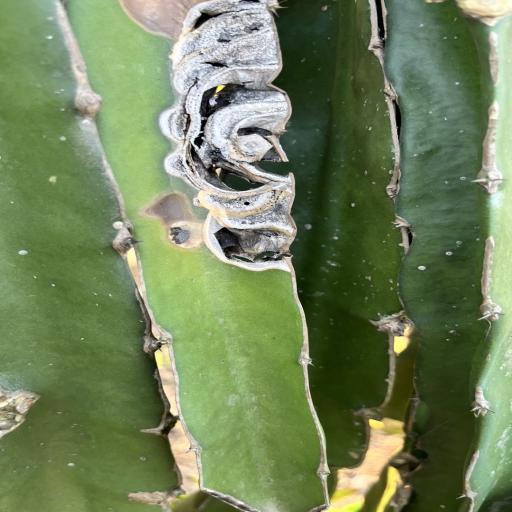stemcanker: (147, 221, 209, 284), (106, 219, 122, 230), (443, 248, 455, 260), (415, 264, 428, 273), (15, 249, 31, 256), (453, 238, 465, 246), (65, 462, 77, 469), (321, 6, 330, 14), (303, 224, 313, 231), (330, 236, 341, 242), (58, 136, 68, 142), (351, 202, 358, 208)
